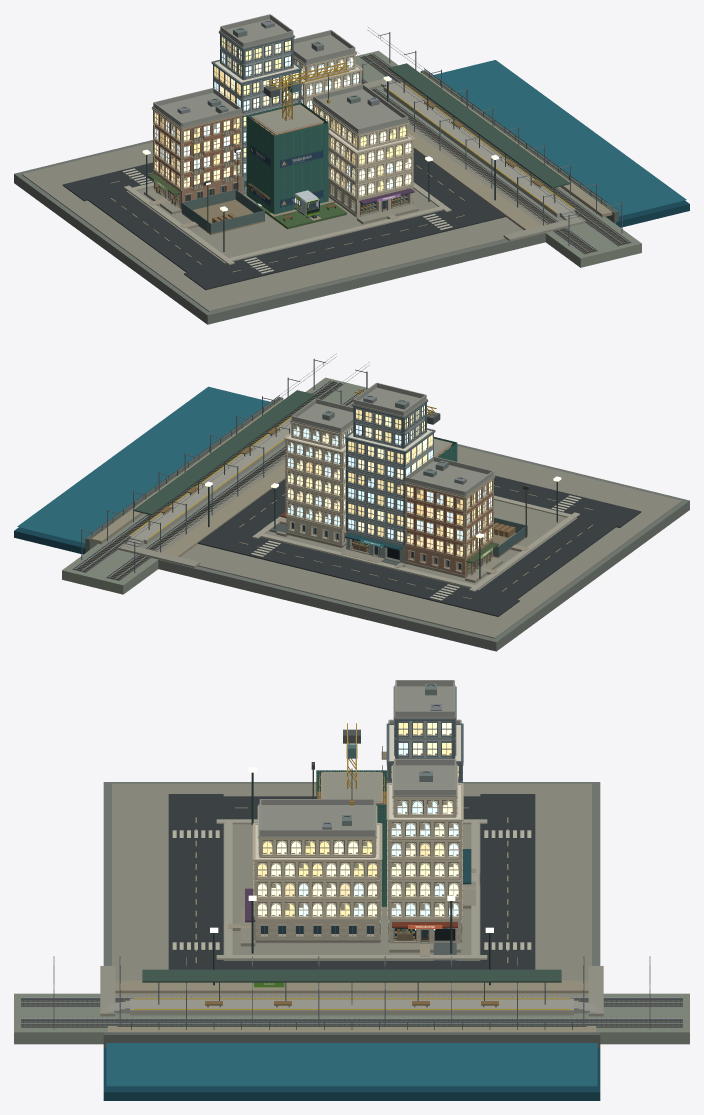
Rendered from city-block.glb.
3 views of the same model, one above another, from view 1: azimuth 30°, elevation 25°; view 2: azimuth 150°, elevation 25°; view 3: azimuth 270°, elevation 25° (orthographic). The views are drawn at different scales.
Visible parts, largest first — view 1: streets-and-quay, water, Shops and apartments, Terracotta apartments, transit-ground-double-track, transit-island-station, Glass office, construction-dust-screen, Limestone hotel, construction-hoarding, construction-frame, pocket-park (+3 smaller); view 2: streets-and-quay, water, Glass office, Terracotta apartments, transit-ground-double-track, Limestone hotel, transit-island-station, construction-hoarding, street-furniture; view 3: streets-and-quay, water, Shops and apartments, transit-island-station, transit-ground-double-track, Limestone hotel, Glass office, construction-frame, construction-dust-screen, street-furniture.
Part boxes in pixels (x1,y1,x2,y2): streets-and-quay: [14, 68, 689, 324]; water: [433, 60, 686, 216]; Shops and apartments: [312, 84, 418, 224]; Terracotta apartments: [144, 88, 243, 214]; transit-ground-double-track: [355, 27, 641, 267]; transit-island-station: [363, 63, 585, 241]; Glass office: [211, 14, 302, 194]; construction-dust-screen: [246, 102, 328, 214]; Limestone hotel: [293, 30, 362, 110]; construction-hoarding: [181, 189, 264, 233]; construction-frame: [253, 105, 322, 132]; pocket-park: [255, 199, 346, 229]; streets-and-quay: [14, 395, 689, 651]; water: [17, 386, 271, 543]; Glass office: [341, 382, 435, 567]; Terracotta apartments: [403, 456, 502, 582]; transit-ground-double-track: [62, 353, 369, 594]; Limestone hotel: [276, 398, 353, 547]; transit-island-station: [118, 390, 315, 567]; construction-hoarding: [493, 517, 527, 556]; street-furniture: [205, 476, 561, 578]; streets-and-quay: [103, 782, 600, 1100]; water: [106, 1043, 597, 1086]; Shops and apartments: [240, 799, 382, 946]; transit-island-station: [100, 966, 603, 1016]; transit-ground-double-track: [14, 956, 689, 1044]; Limestone hotel: [386, 759, 463, 952]; Glass office: [386, 680, 475, 908]; construction-frame: [323, 772, 380, 801]; construction-dust-screen: [316, 770, 387, 906]; street-furniture: [210, 767, 493, 985].
Size of the model in its own units: 25.9 by 8.52 by 24.5.
56 materials, 18 textured.
